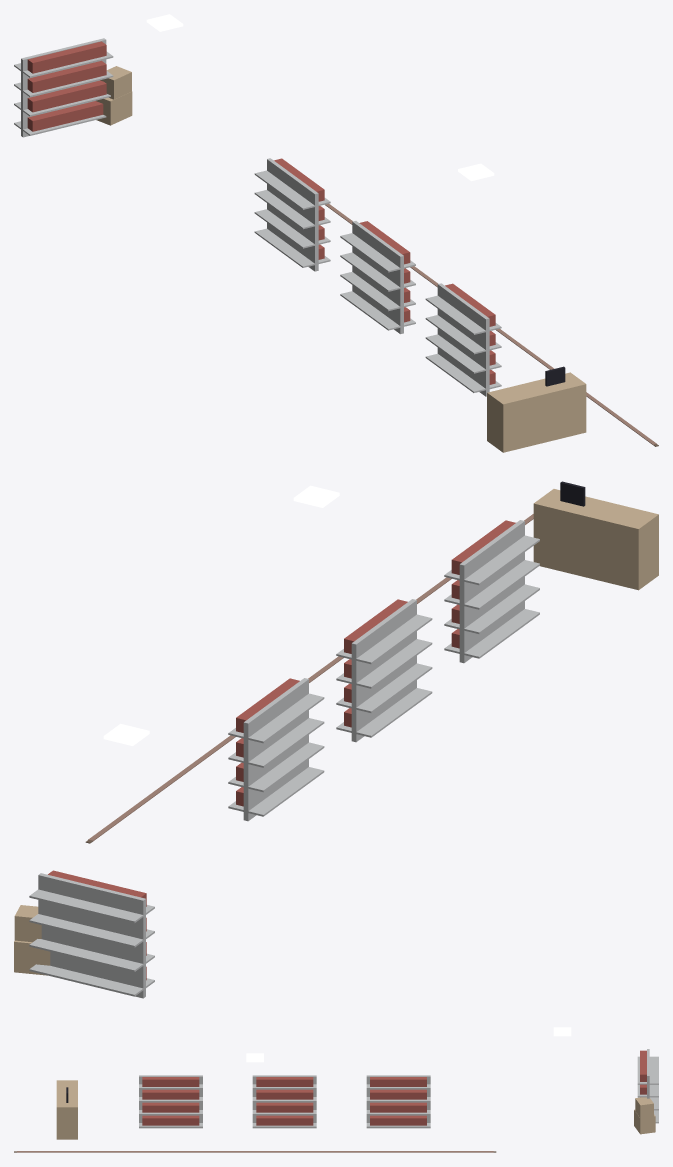
Rendered from fine-s0.glb.
The picture shows the model from 3 angles, top to bottom: view 1: azimuth 30°, elevation 25°; view 2: azimuth 150°, elevation 25°; view 3: azimuth 270°, elevation 25°; orthographic projection. The views are drawn at different scales.
Parts seen in each view (by area): view 1: shelving.000, shop-counter.000, shelf.001, shelf.002, shelf.000, cardboard-box.000, soft-s0; view 2: shelving.000, shop-counter.000, shelf.002, shelf.001, shelf.000, cardboard-box.000, soft-s0; view 3: shelf.000, shelf.001, shelf.002, shop-counter.000, shelving.000, soft-s0, cardboard-box.000.
Boxes of the visible parts, left/top/right/bottom form: shelving.000: left=14, top=38, right=113, bottom=137; shop-counter.000: left=487, top=366, right=586, bottom=452; shelf.001: left=340, top=221, right=415, bottom=334; shelf.002: left=425, top=283, right=501, bottom=396; shelf.000: left=254, top=158, right=330, bottom=271; cardboard-box.000: left=96, top=66, right=132, bottom=125; soft-s0: left=325, top=203, right=658, bottom=446; shelving.000: left=29, top=870, right=154, bottom=998; shop-counter.000: left=533, top=481, right=658, bottom=590; shelf.002: left=444, top=520, right=539, bottom=663; shelf.001: left=336, top=599, right=432, bottom=742; shelf.000: left=228, top=678, right=324, bottom=821; cardboard-box.000: left=14, top=905, right=50, bottom=975; soft-s0: left=85, top=514, right=533, bottom=843; shelf.000: left=366, top=1075, right=430, bottom=1128; shelf.001: left=252, top=1075, right=316, bottom=1128; shelf.002: left=139, top=1075, right=202, bottom=1128; shop-counter.000: left=56, top=1080, right=77, bottom=1139; shelving.000: left=637, top=1049, right=658, bottom=1123; soft-s0: left=14, top=1151, right=496, bottom=1152; cardboard-box.000: left=634, top=1097, right=655, bottom=1134.
Size of the model in its own units: 3.69 by 2.95 by 18.13.
